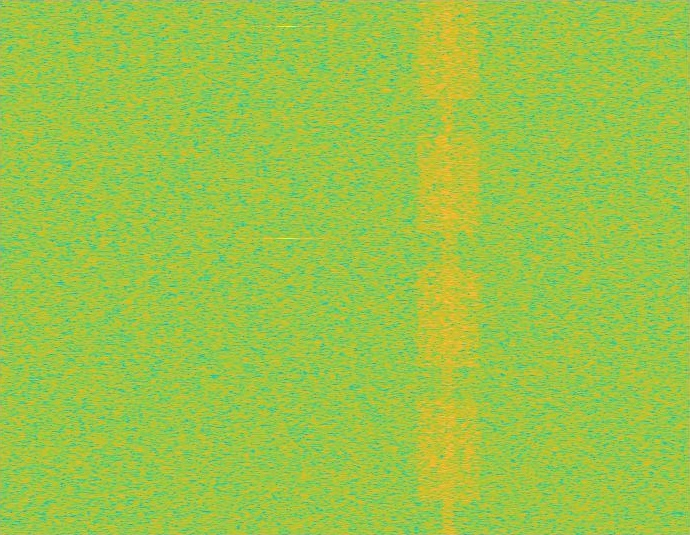5G: (414, 0, 483, 534)
DSSS: (441, 0, 456, 534)
Radar: (281, 0, 295, 534)
